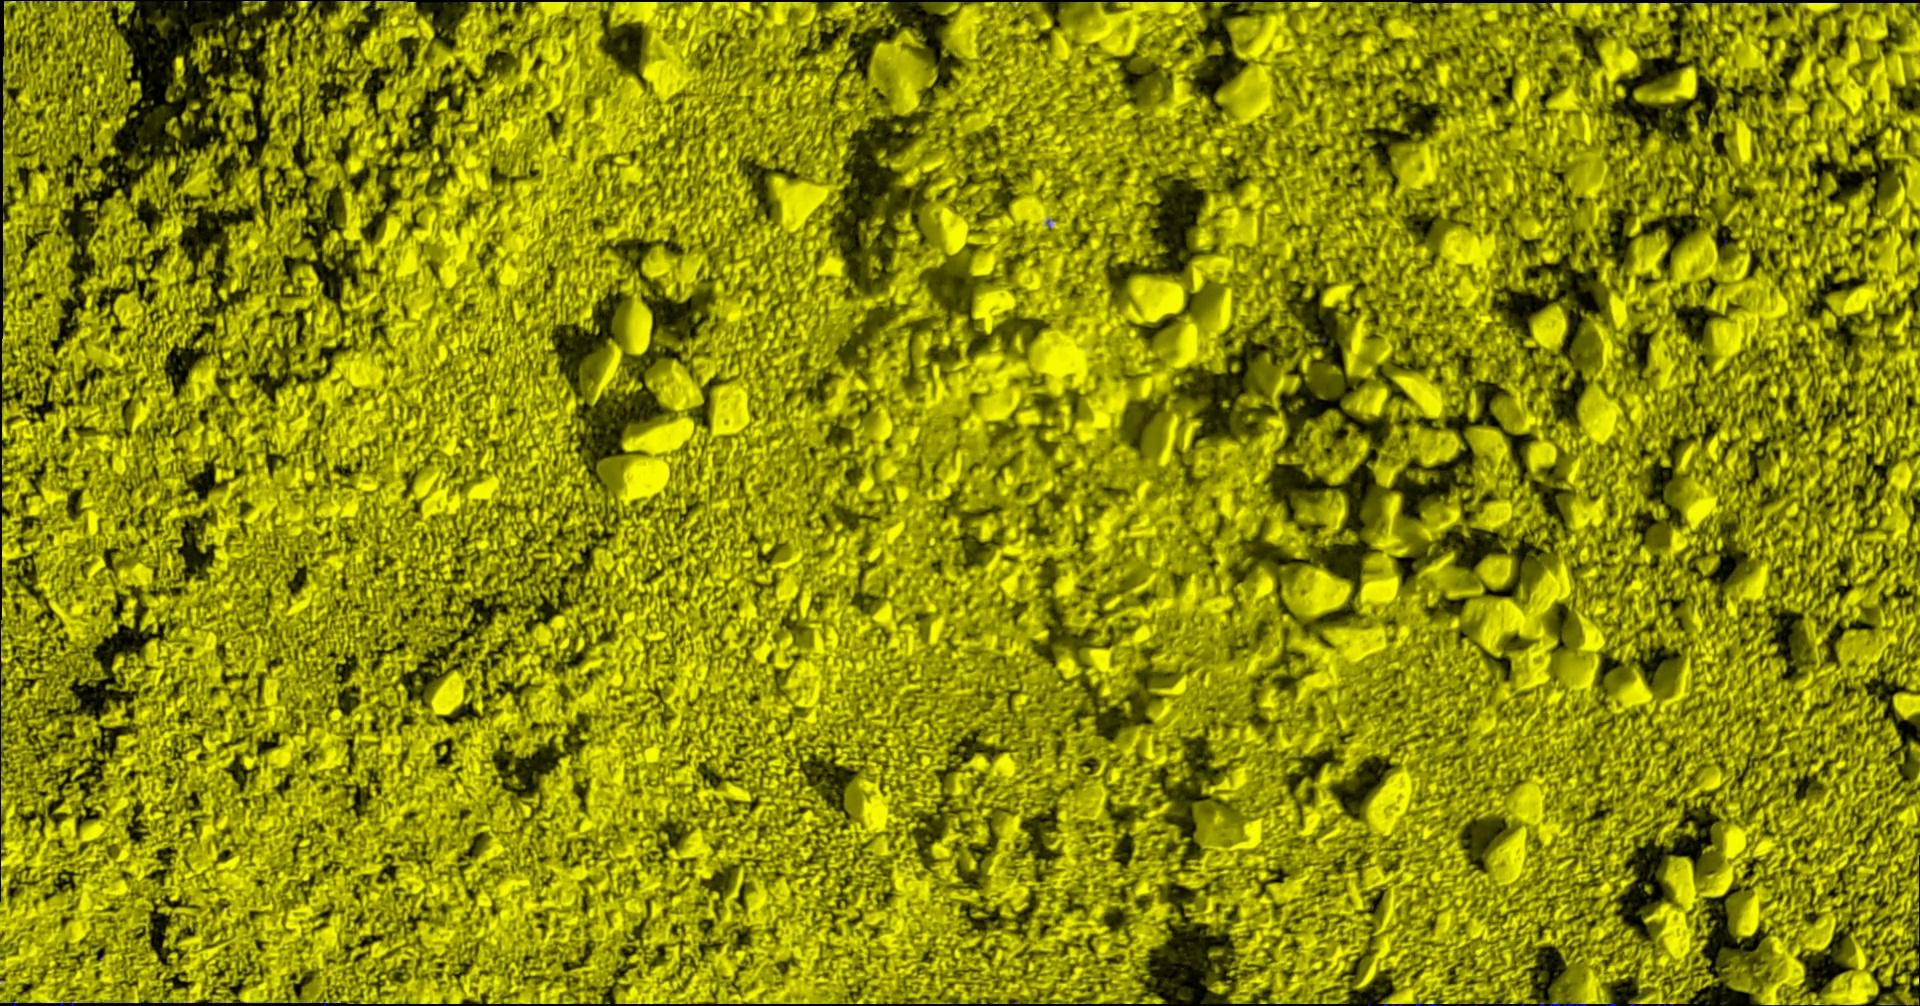ant: (1540, 1002, 1589, 1005)
